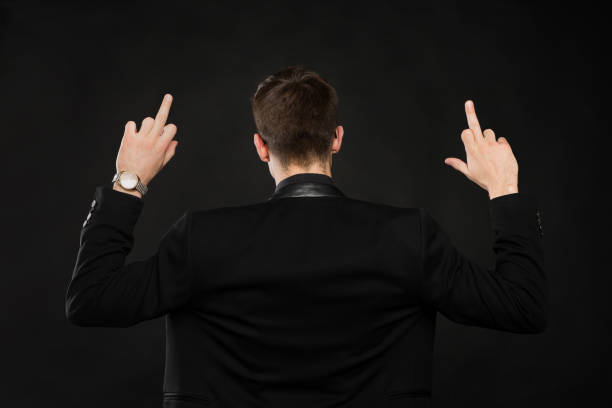insulting_gesture: (441, 99, 522, 195), (114, 90, 180, 182)
